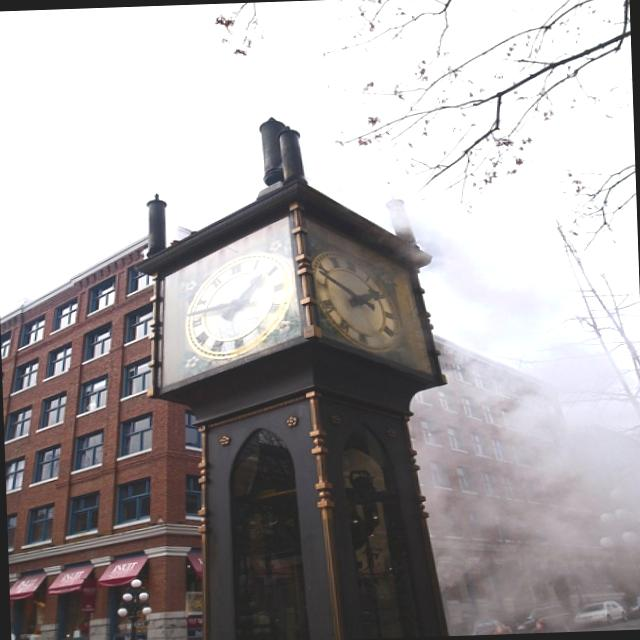Vehicle: (508, 604, 572, 634), (572, 599, 628, 627), (451, 618, 501, 636), (625, 593, 640, 617)
